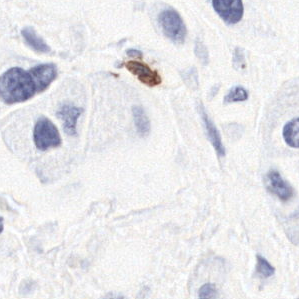Lymphocyte: (125, 60, 163, 86)
